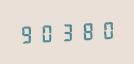eight: (75, 19, 93, 42)
nine: (18, 22, 36, 45)
three: (56, 20, 74, 43)
zero: (37, 21, 55, 44), (94, 18, 112, 41)
